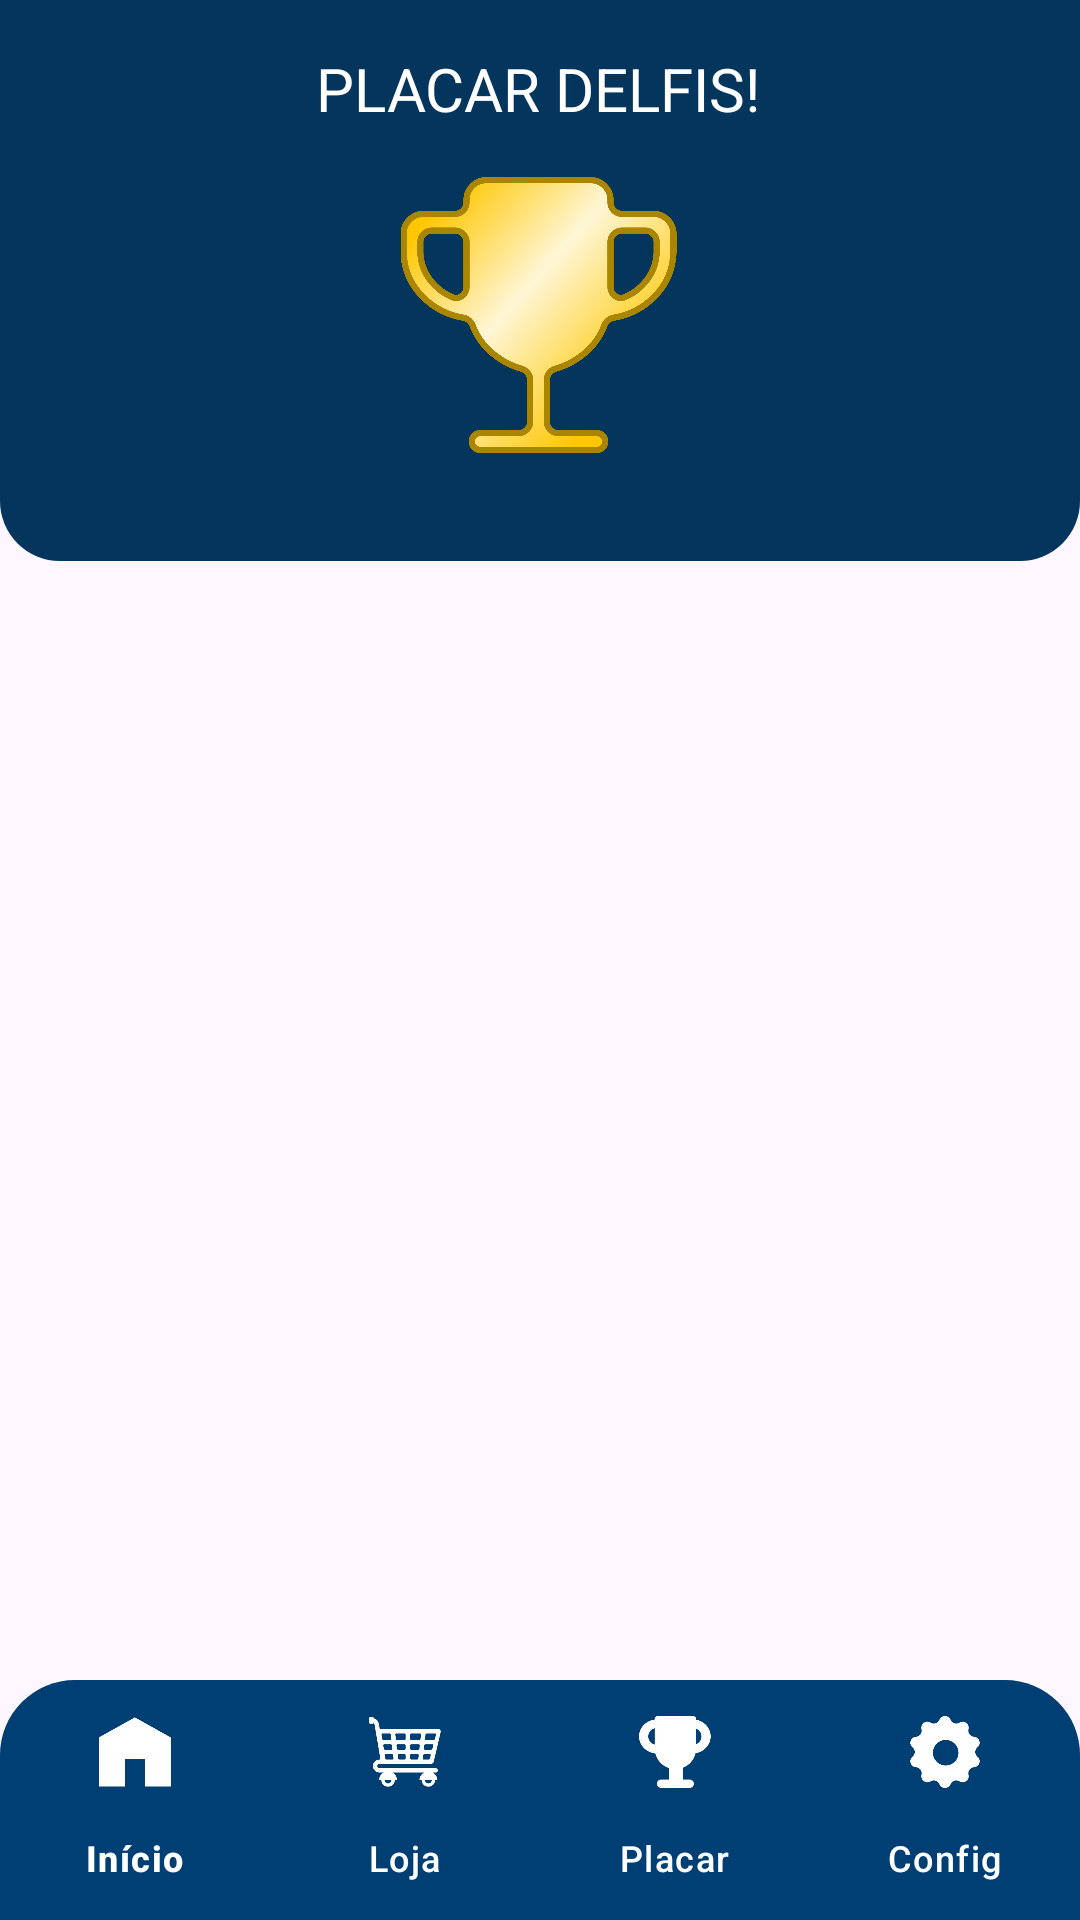

Icons on this 1080px×1920px Android screen, each with its box as (x1, y1, x2, y2):
trofeu: (401, 177, 677, 453)
